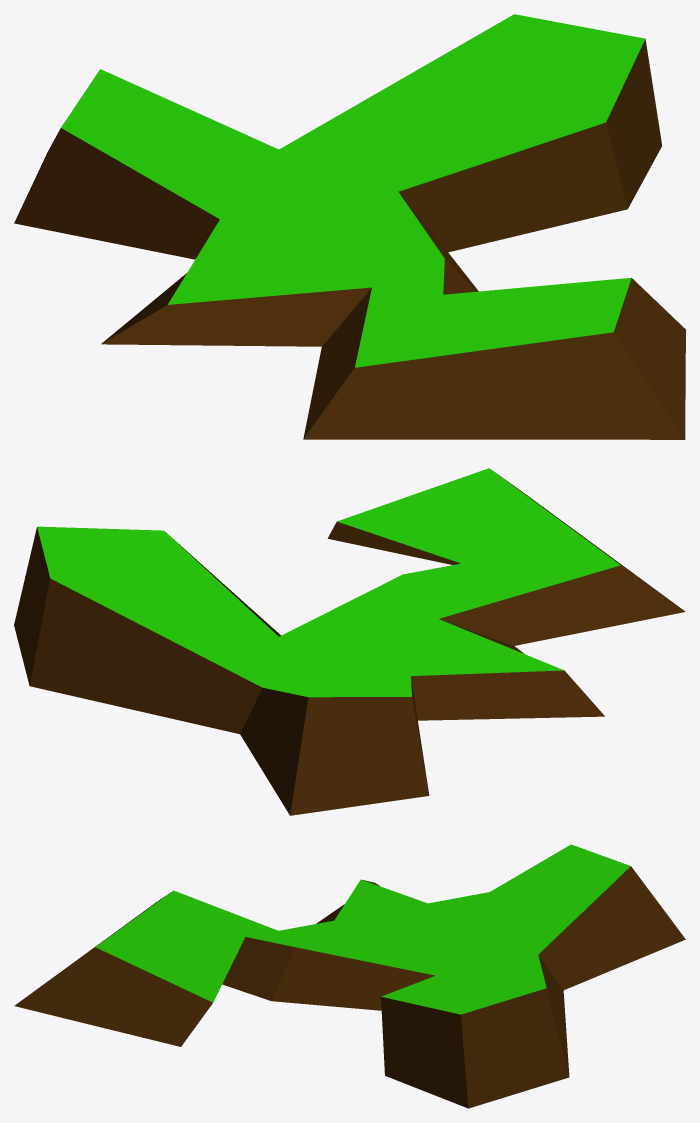
Rendered from Island2FBX.fbx.
3 views of the same model, one above another, from view 1: azimuth 30°, elevation 25°; view 2: azimuth 150°, elevation 25°; view 3: azimuth 270°, elevation 25° (orthographic). The views are drawn at different scales.
Visible parts, largest first — view 1: Plane; view 2: Plane; view 3: Plane.
Part boxes in pixels (box(x1,y1,x2,y2)): Plane: box(14, 14, 685, 439); Plane: box(14, 468, 685, 815); Plane: box(14, 844, 685, 1108).
Size of the model in its own units: 12.7 by 2.26 by 15.98.
